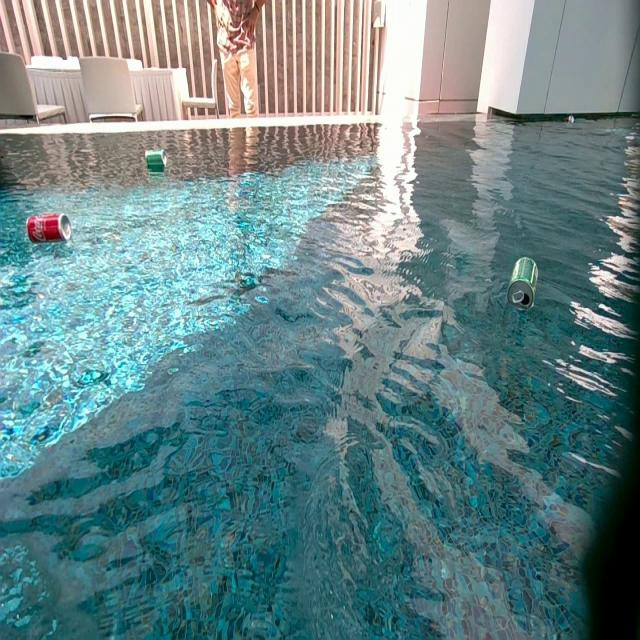Cans: (508, 256, 540, 313), (27, 213, 71, 243), (146, 149, 165, 168), (567, 118, 574, 124)
